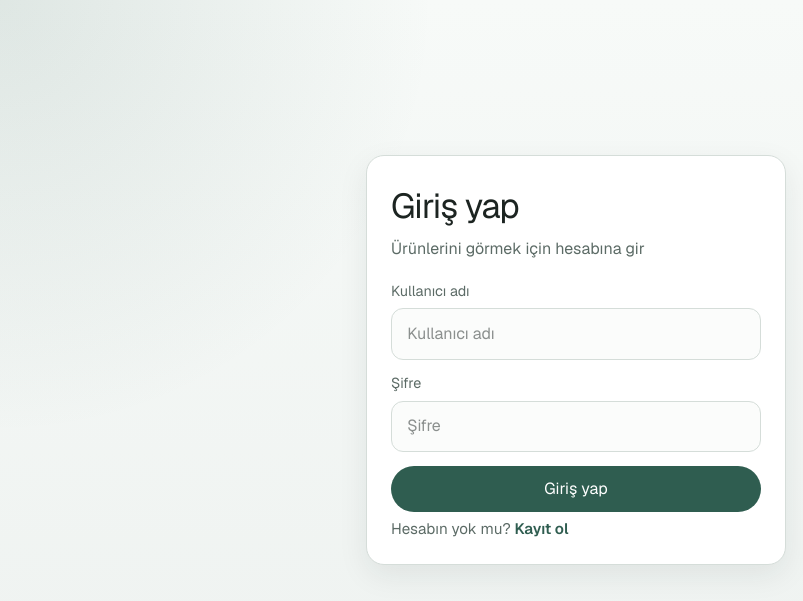
Test: LoginPage › should show error when backend cannot be reached
In the field labelled "Kullanıcı adı": (576, 334) [391, 308, 761, 360], type "fatih"
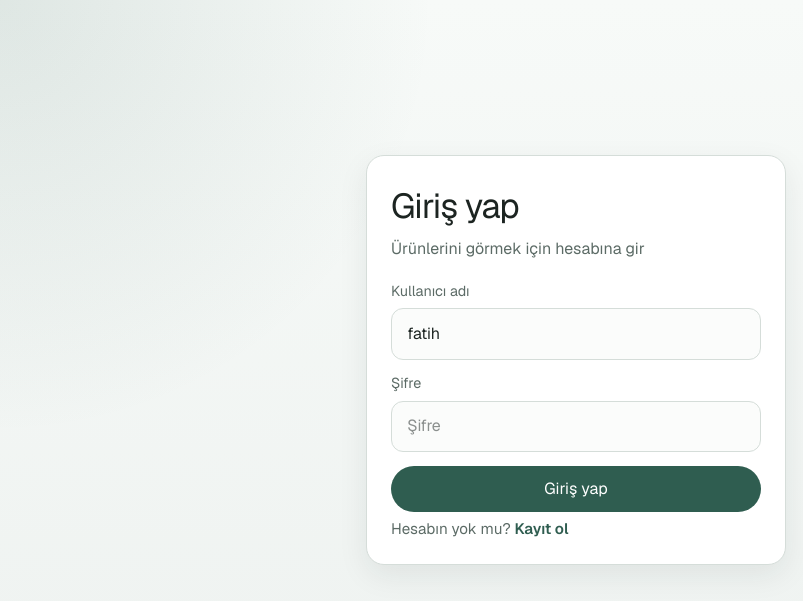
In the password field labelled "Şifre": (576, 426) [391, 400, 761, 452], type "123456"
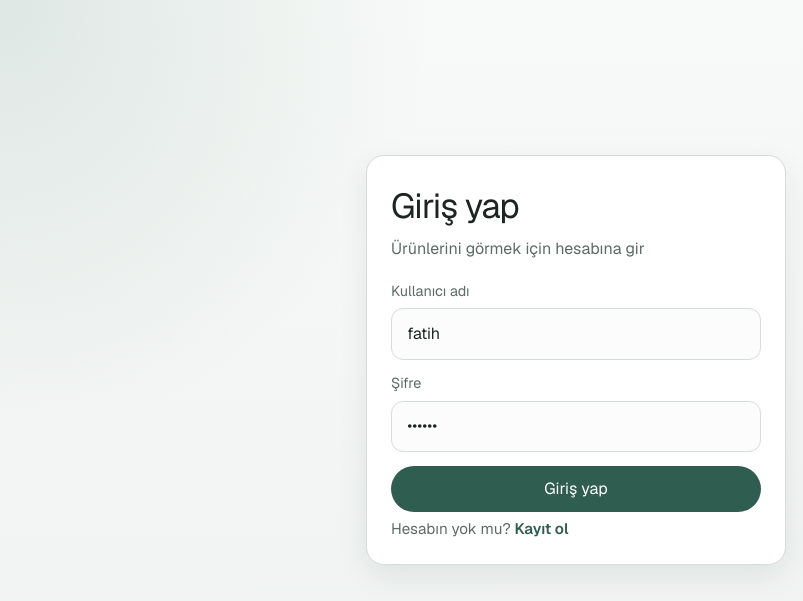
Click the button "Giriş yap": (576, 489) [391, 466, 761, 512]
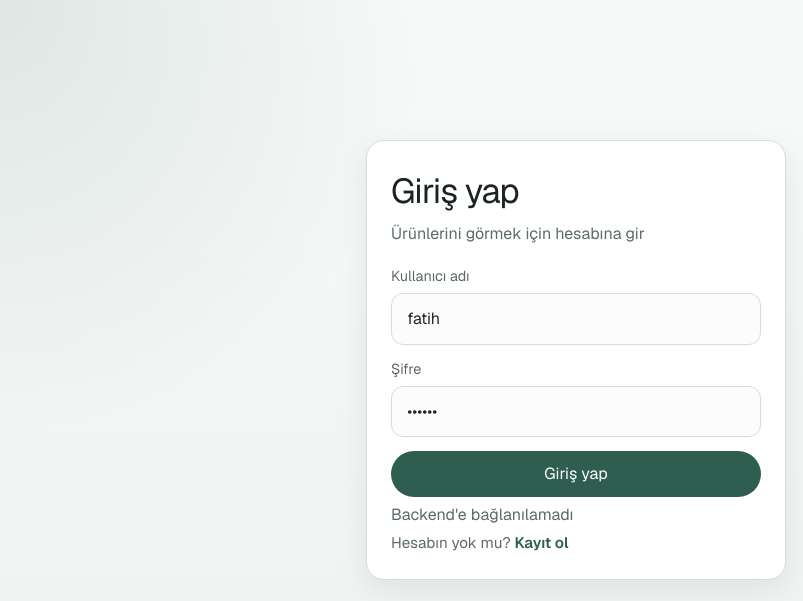
expect the text "Backend'e bağlanılamadı" is shown: met, box [391, 504, 573, 525]
